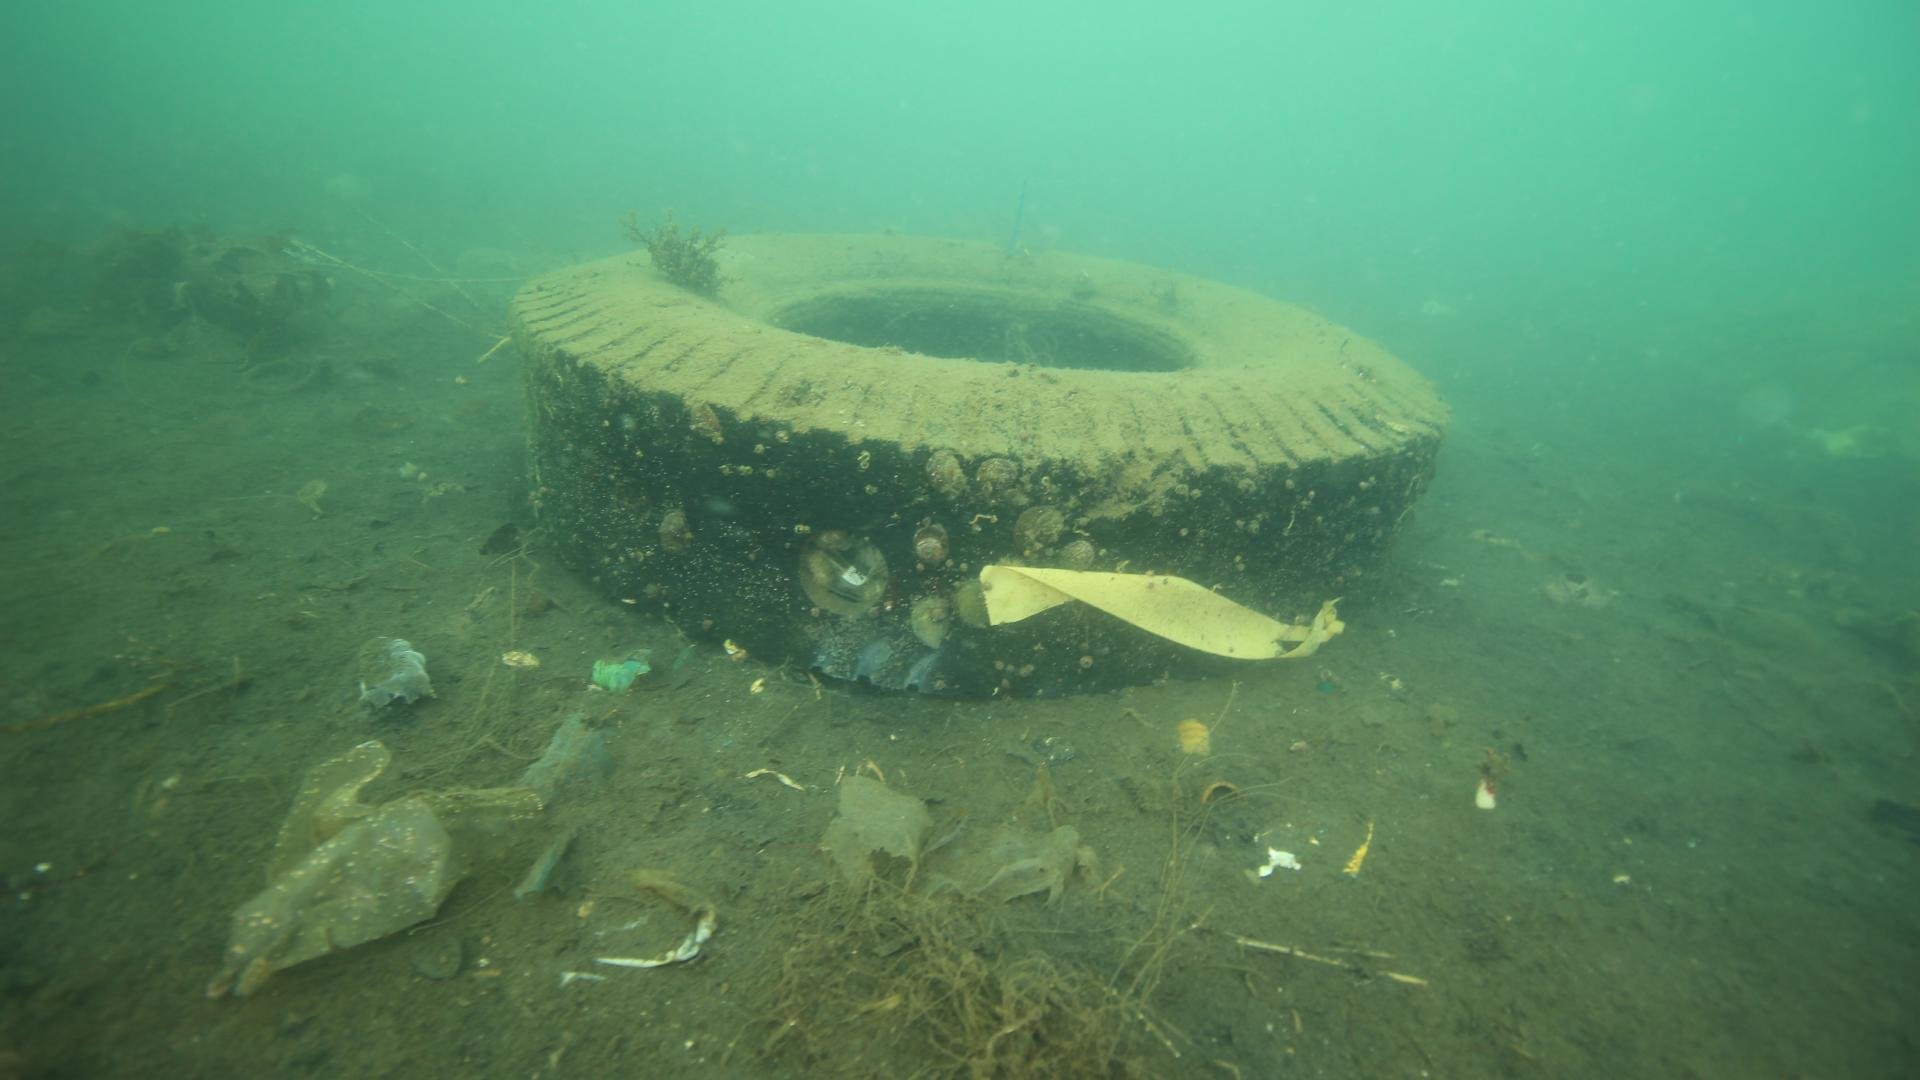tire: (512, 227, 1455, 698)
